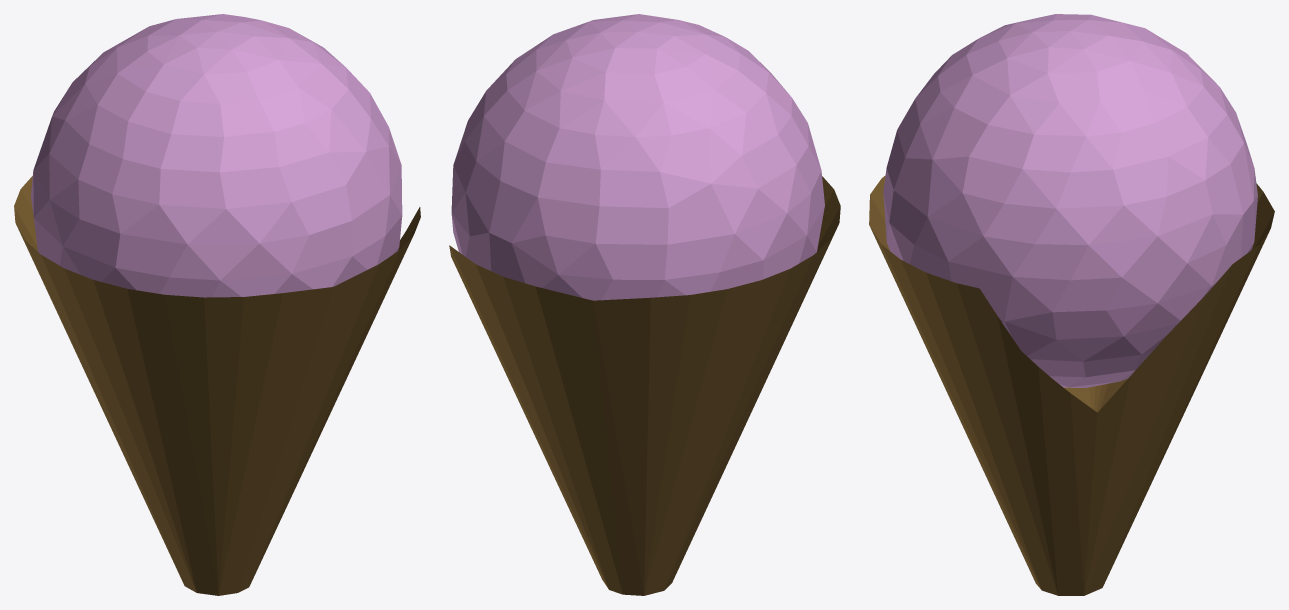
The model's file is icecream.fbx.
3 renders of one model, left to right at view 1: azimuth 30°, elevation 25°; view 2: azimuth 150°, elevation 25°; view 3: azimuth 270°, elevation 25°, orthographic.
Parts seen in each view (by area): view 1: Sphere, Cylinder; view 2: Sphere, Cylinder; view 3: Sphere, Cylinder.
Part boxes in pixels (x1,y1,x2,y2): Sphere: (31, 14, 402, 297); Cylinder: (14, 176, 420, 595); Sphere: (451, 14, 824, 300); Cylinder: (449, 176, 840, 595); Sphere: (883, 14, 1257, 387); Cylinder: (869, 175, 1274, 595).
Size of the model in its own units: 192 by 297 by 199.
